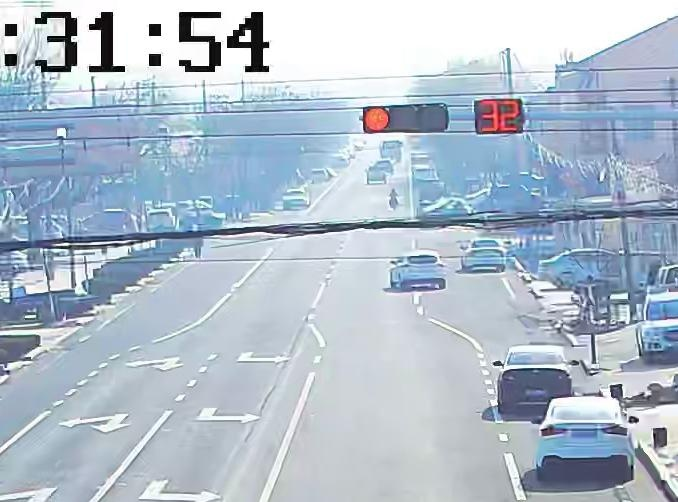red: (362, 104, 390, 132)
redtime: (478, 98, 516, 136)
